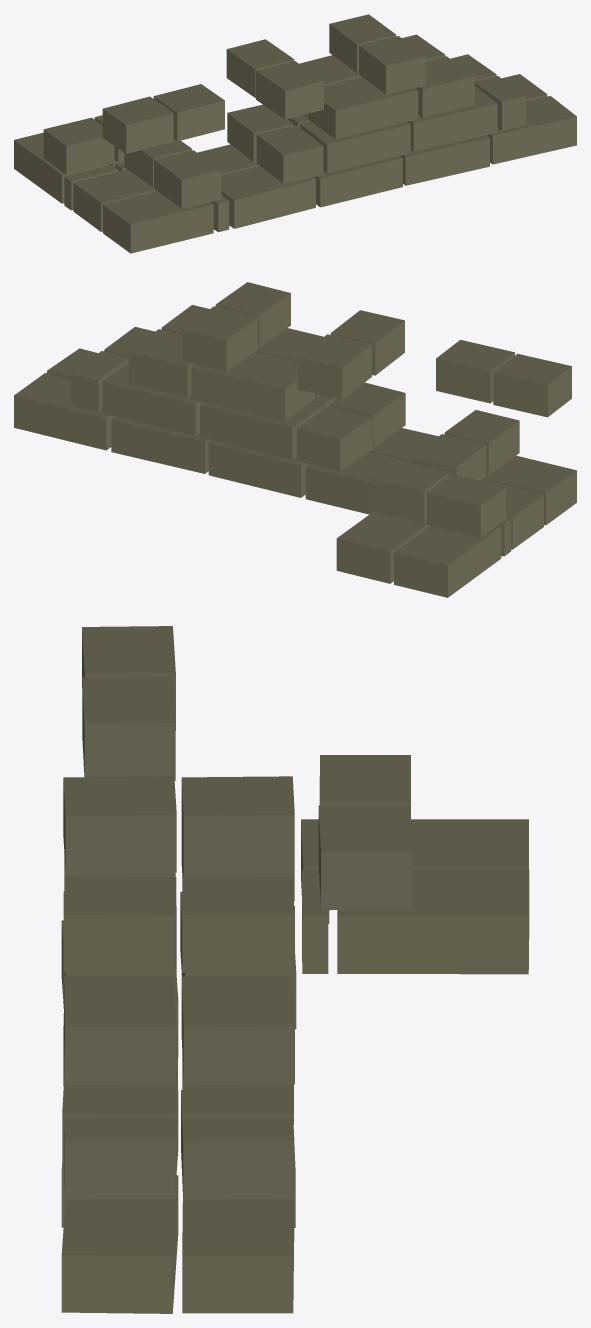
The model's file is SM_SacosRemate_v1_Talud_e0_Sano_LOD0.fbx.
3 views of the same model, one above another, from view 1: azimuth 30°, elevation 25°; view 2: azimuth 150°, elevation 25°; view 3: azimuth 270°, elevation 25° (orthographic). The views are drawn at different scales.
Parts seen in each view (by area): view 1: SM_sacos_piezas_v24_LOD0; view 2: SM_sacos_piezas_v24_LOD0; view 3: SM_sacos_piezas_v24_LOD0.
Boxes of the visible parts, left/top/right/bottom form: SM_sacos_piezas_v24_LOD0: left=14, top=14, right=576, bottom=253; SM_sacos_piezas_v24_LOD0: left=14, top=282, right=576, bottom=597; SM_sacos_piezas_v24_LOD0: left=61, top=626, right=529, bottom=1313.
Bounding box in the file's own units: 4.38 × 1.17 × 1.98.
